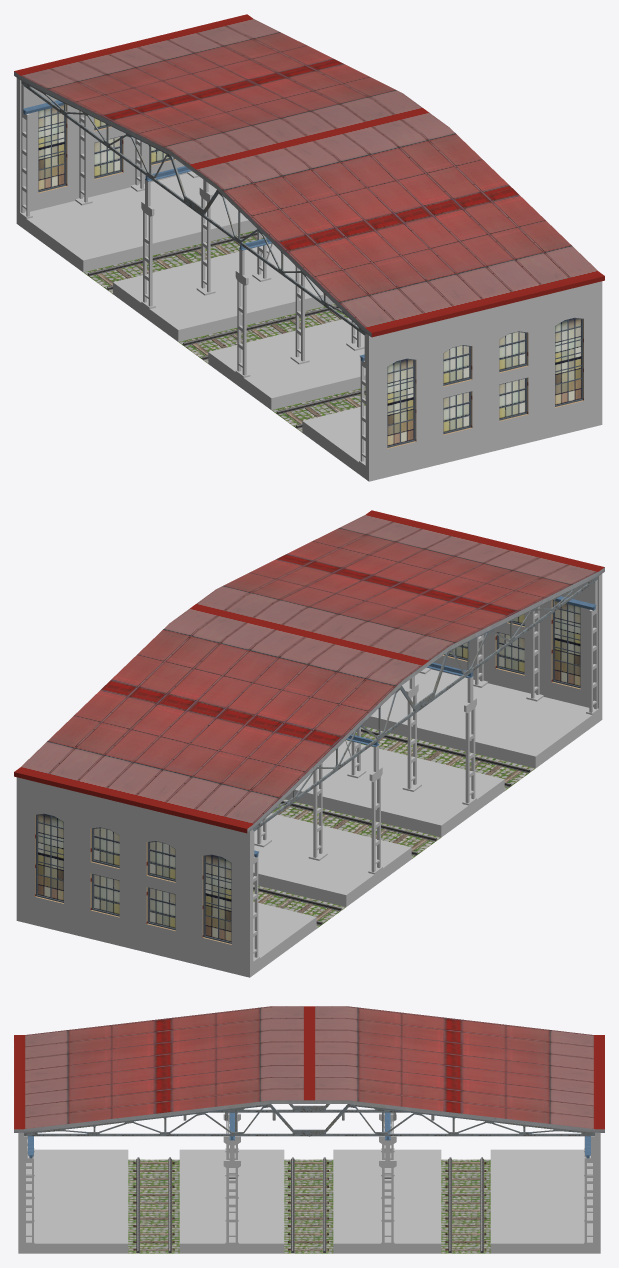
The model's file is HangarBig01b.FBX.
3 views of the same model, one above another, from view 1: azimuth 30°, elevation 25°; view 2: azimuth 150°, elevation 25°; view 3: azimuth 270°, elevation 25° (orthographic). The views are drawn at different scales.
Parts seen in each view (by area): view 1: HangarBig01_Roof01b, HangarBig01_Floor1, HangarBig01_Wall01b, HangarBig01_Window1_b, HangarBig01_RailFloor1, HangarBig01_Window2_b, HangarBig01_Carcass01_bf, HangarBig01_Carcass02_b, HangarBig01_Railway1, HangarBig01_Carcass01_b, HangarBig01_WindowMtl_b, HangarBig01_WindowMtl_b1; view 2: HangarBig01_Roof01b, HangarBig01_Floor1, HangarBig01_Wall01b, HangarBig01_Window1_b, HangarBig01_RailFloor1, HangarBig01_Window2_b, HangarBig01_Carcass01_bf, HangarBig01_Carcass02_b, HangarBig01_Railway1, HangarBig01_Carcass01_b, HangarBig01_WindowMtl_b, HangarBig01_WindowMtl_b1; view 3: HangarBig01_Roof01b, HangarBig01_Floor1, HangarBig01_RailFloor1, HangarBig01_Railway1, HangarBig01_Carcass02_b, HangarBig01_Carcass01_bf, HangarBig01_Carcass01_b, HangarBig01_Wall01b, HangarBig01_Border_bc.
Boxes of the visible parts, <box> form: HangarBig01_Roof01b: <box>14,14,604,337</box>; HangarBig01_Floor1: <box>20,173,365,478</box>; HangarBig01_Wall01b: <box>16,78,602,481</box>; HangarBig01_Window1_b: <box>38,105,581,445</box>; HangarBig01_RailFloor1: <box>83,230,365,432</box>; HangarBig01_Window2_b: <box>94,118,525,432</box>; HangarBig01_Carcass01_bf: <box>141,179,360,375</box>; HangarBig01_Carcass02_b: <box>21,81,365,335</box>; HangarBig01_Railway1: <box>87,232,365,428</box>; HangarBig01_Carcass01_b: <box>21,84,365,461</box>; HangarBig01_WindowMtl_b: <box>38,105,583,447</box>; HangarBig01_WindowMtl_b1: <box>38,108,581,443</box>; HangarBig01_Roof01b: <box>14,510,604,833</box>; HangarBig01_Floor1: <box>253,669,598,974</box>; HangarBig01_Wall01b: <box>16,574,602,977</box>; HangarBig01_Window1_b: <box>37,601,580,941</box>; HangarBig01_RailFloor1: <box>253,726,535,928</box>; HangarBig01_Window2_b: <box>93,614,524,928</box>; HangarBig01_Carcass01_bf: <box>257,676,476,871</box>; HangarBig01_Carcass02_b: <box>253,577,597,831</box>; HangarBig01_Railway1: <box>253,728,530,925</box>; HangarBig01_Carcass01_b: <box>253,580,597,957</box>; HangarBig01_WindowMtl_b: <box>35,601,580,943</box>; HangarBig01_WindowMtl_b1: <box>37,604,580,938</box>; HangarBig01_Roof01b: <box>14,1006,604,1132</box>; HangarBig01_Floor1: <box>24,1149,594,1253</box>; HangarBig01_RailFloor1: <box>128,1159,490,1253</box>; HangarBig01_Railway1: <box>133,1157,486,1252</box>; HangarBig01_Carcass02_b: <box>24,1104,594,1136</box>; HangarBig01_Carcass01_bf: <box>223,1112,396,1242</box>; HangarBig01_Carcass01_b: <box>24,1136,594,1242</box>; HangarBig01_Wall01b: <box>18,1132,600,1253</box>; HangarBig01_Border_bc: <box>225,1148,394,1243</box>.
Size of the model in its own units: 855 by 649 by 2269.
